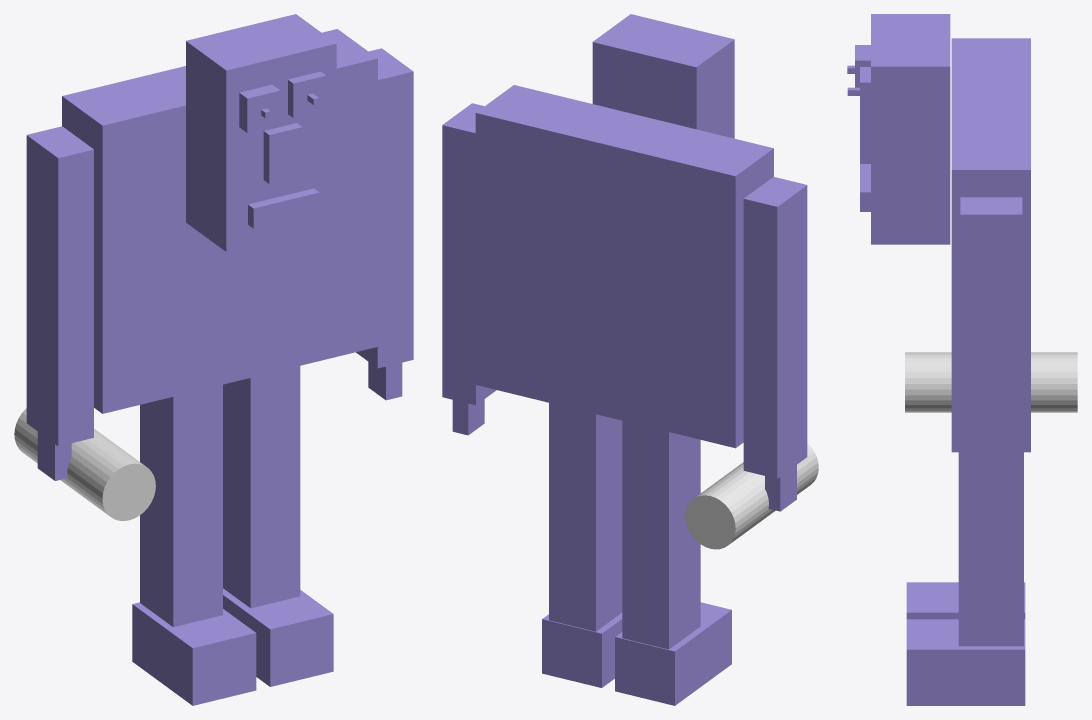
File: Man.glb
3 renders of one model, left to right at view 1: azimuth 30°, elevation 25°; view 2: azimuth 150°, elevation 25°; view 3: azimuth 270°, elevation 25°, orthographic. The views are drawn at different scales.
Parts seen in each view (by area): view 1: Cube, Cube.001, Cube.003, Cube.004, Cube.005, Cube.002, Cube.006, Cube.007, Cylinder, Cube.010, Cube.013, Cube.012 (+3 smaller); view 2: Cube, Cube.003, Cube.004, Cube.005, Cube.001, Cube.002, Cube.006, Cylinder, Cube.007, Cube.009, Cube.008; view 3: Cube.002, Cube.001, Cube, Cube.005, Cube.007, Cylinder, Cube.006, Cube.008, Cube.015, Cube.010, Cube.013, Cube.012.
Part boxes in pixels (x1,y1,x2,y2): Cube: (62, 29, 377, 413); Cube.001: (186, 14, 336, 251); Cube.003: (26, 126, 93, 446); Cube.004: (140, 384, 222, 627); Cube.005: (223, 366, 300, 608); Cube.002: (356, 48, 413, 368); Cube.006: (132, 602, 256, 705); Cube.007: (223, 588, 333, 686); Cylinder: (14, 408, 155, 520); Cube.010: (263, 123, 302, 183); Cube.013: (248, 188, 319, 228); Cube.012: (239, 84, 280, 132); Cube: (475, 85, 773, 448); Cube.003: (743, 177, 807, 478); Cube.004: (622, 420, 700, 649); Cube.005: (549, 403, 622, 631); Cube.001: (592, 14, 734, 138); Cube.002: (442, 103, 496, 405); Cube.006: (615, 602, 731, 705); Cylinder: (685, 443, 818, 549); Cube.007: (542, 613, 622, 687); Cube.009: (765, 465, 796, 511); Cube.008: (452, 399, 484, 435); Cube.002: (960, 197, 1022, 496); Cube.001: (871, 14, 950, 244); Cube: (951, 38, 1030, 452); Cube.005: (958, 452, 1023, 646); Cube.007: (906, 619, 1025, 705); Cylinder: (905, 352, 1077, 412); Cube.006: (906, 582, 1025, 619); Cube.008: (974, 497, 1008, 534); Cube.015: (860, 67, 870, 116); Cube.010: (860, 116, 870, 163); Cube.013: (860, 164, 870, 211); Cube.012: (855, 45, 870, 87).
Size of the model in its own units: 2.58 by 4.48 by 1.48.
